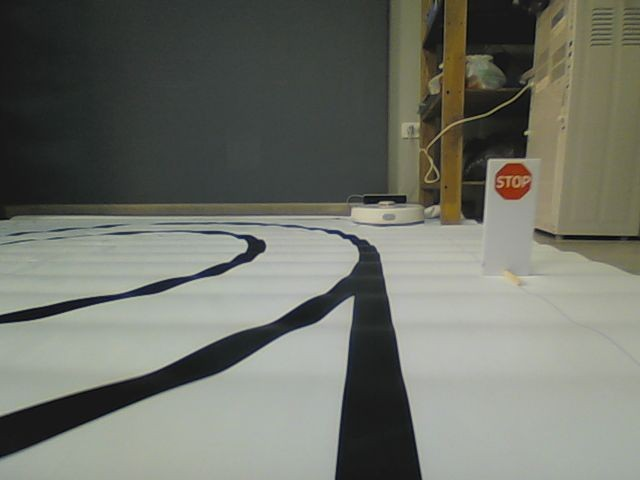Stop: (493, 161, 532, 201)
